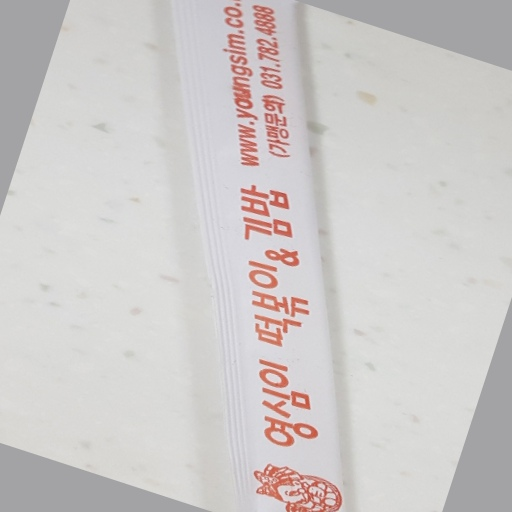Paper_2: (167, 3, 357, 512)
